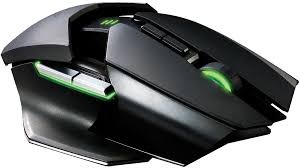mouse: (1, 2, 300, 168)
